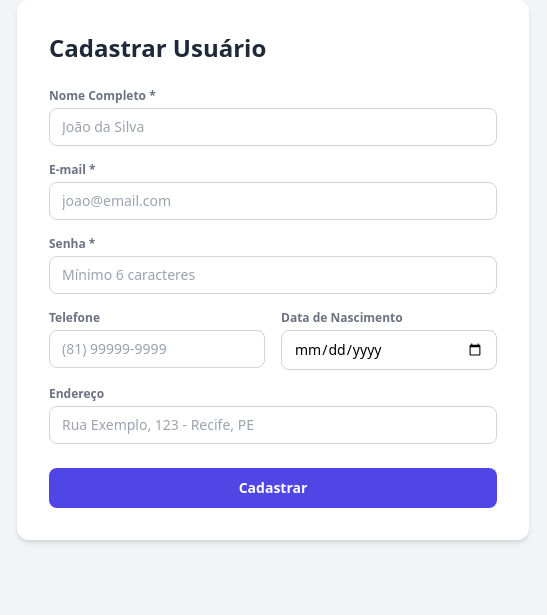
Scenario: FormularioCadastro › exibe mensagem de erro quando a API retorna erro
In the field with placeholder "João da Silva": (273, 127) [49,108,497,146], type "Jamylle"
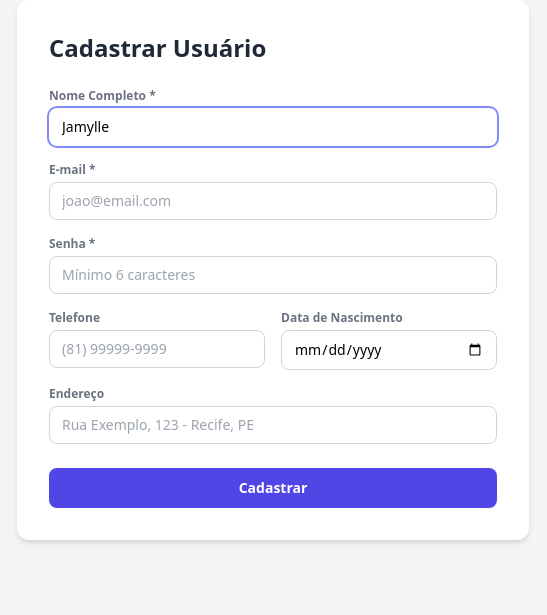
In the field with placeholder "joao@email.com": (273, 201) [49,182,497,220], type "j@j.com"
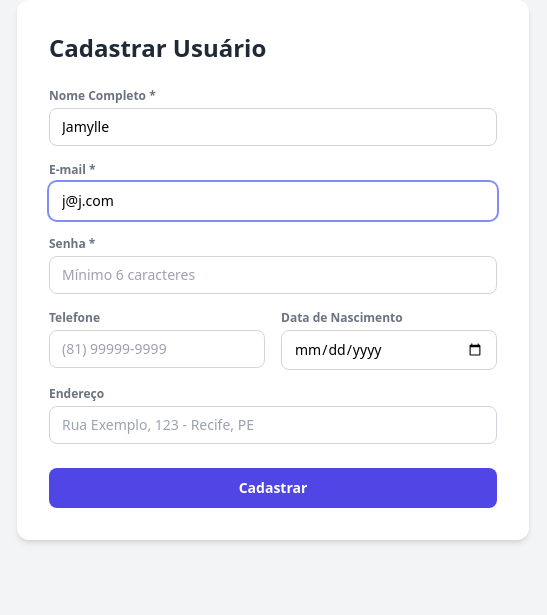
In the password field with placeholder "Mínimo 6 caracteres": (273, 275) [49,256,497,294], type "123456"
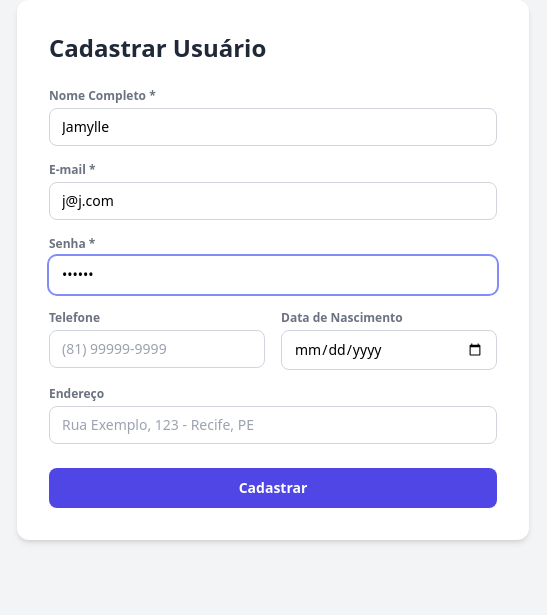
Click the button "Cadastrar": (273, 488) [49,468,497,508]
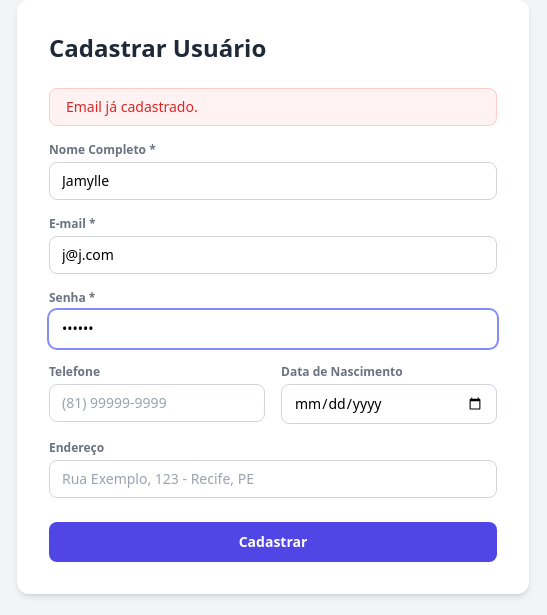
Result: the text "Email já cadastrado." is shown at [49,88,497,126]
